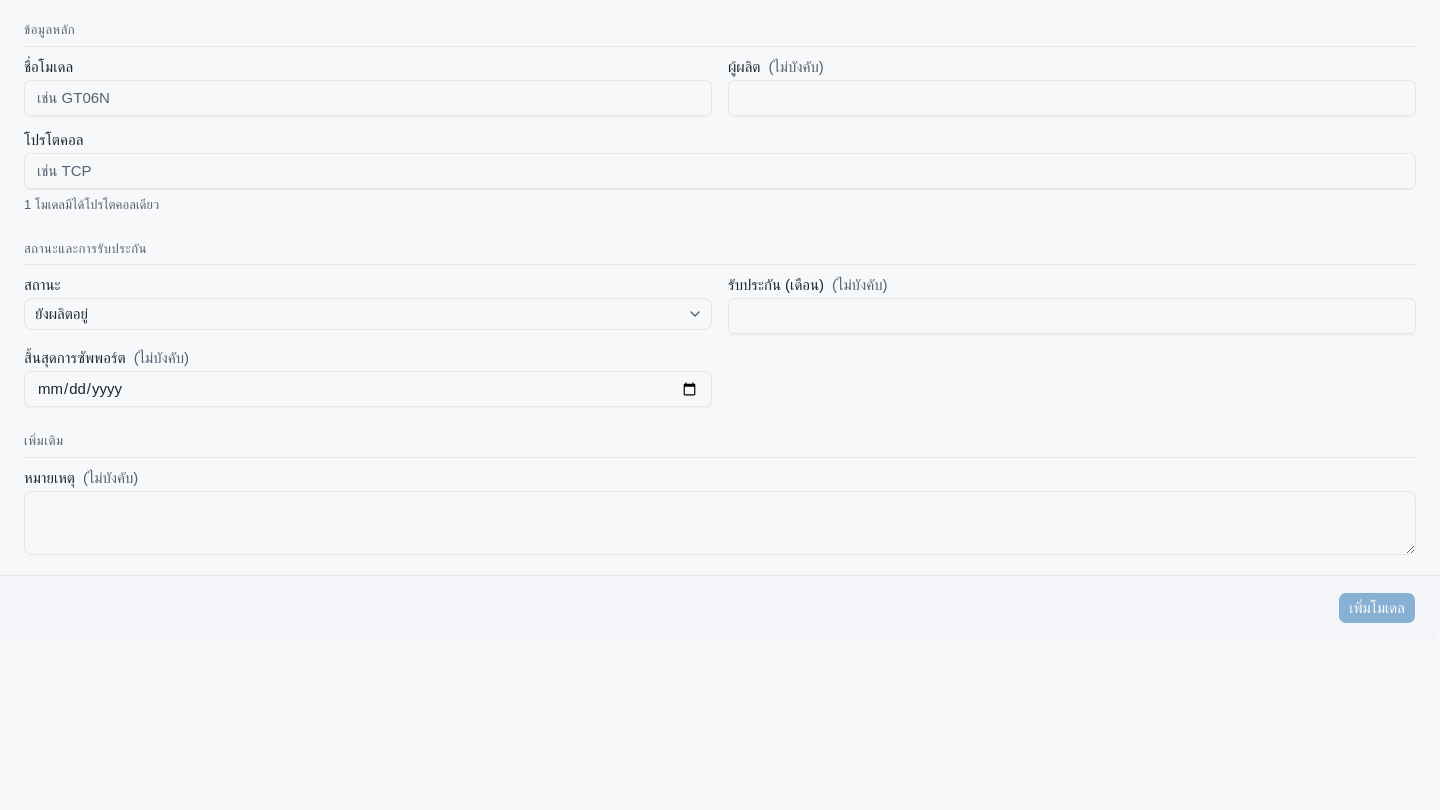
CreateDeviceModelForm › ปุ่ม 'เพิ่มโมเดล' disabled จนกว่าจะกรอกชื่อและโปรโตคอล
This screenshot has width=1440, height=810.
Expected: the button "เพิ่มโมเดล" is disabled, x1=1338 y1=592 x2=1416 y2=624
Type "GT06N" into the field labelled "ชื่อโมเดล" at (368, 98), box x1=24 y1=80 x2=712 y2=116
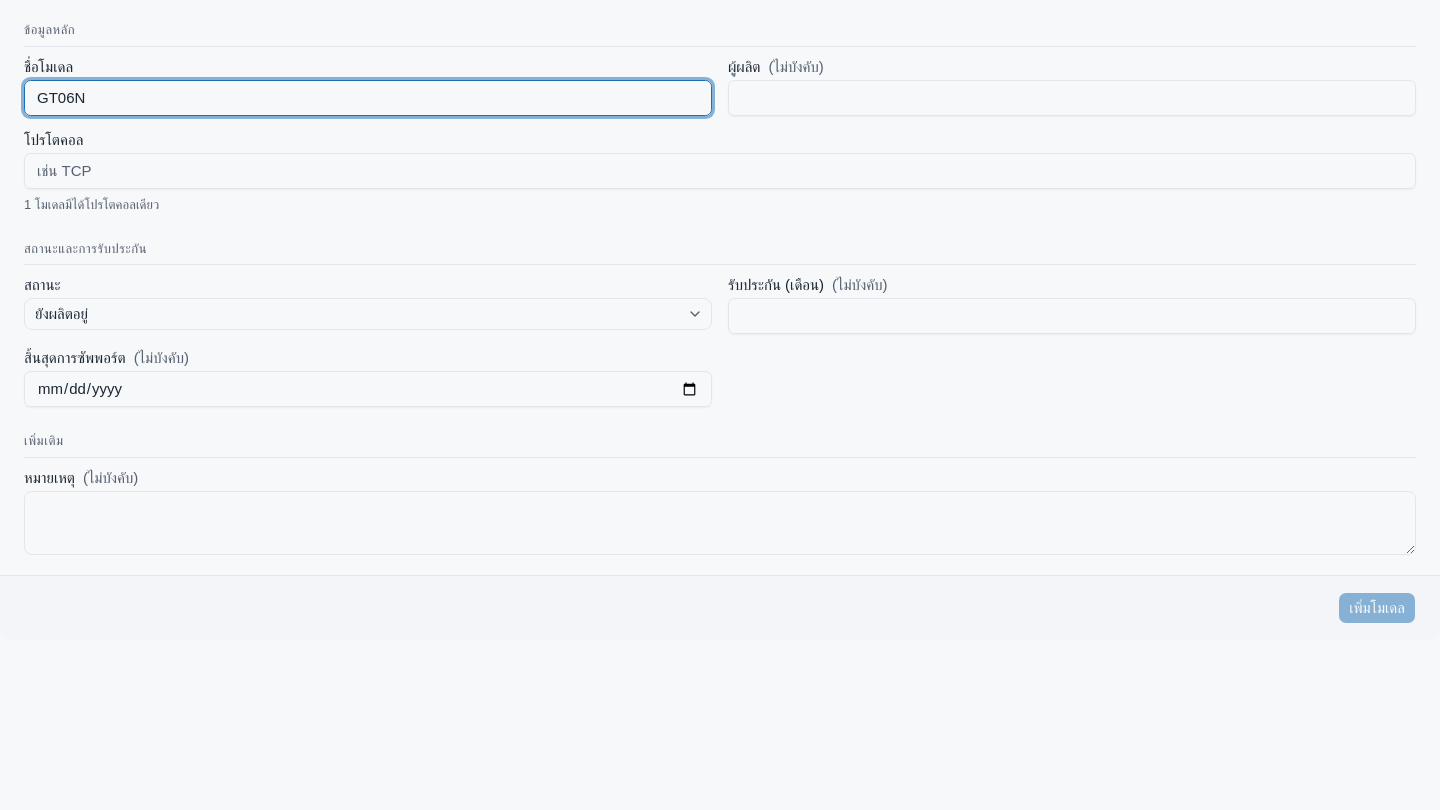
Expected: the button "เพิ่มโมเดล" is disabled, x1=1338 y1=592 x2=1416 y2=624
Type "TCP" into the field labelled "โปรโตคอล" at (720, 170), box x1=24 y1=152 x2=1416 y2=188
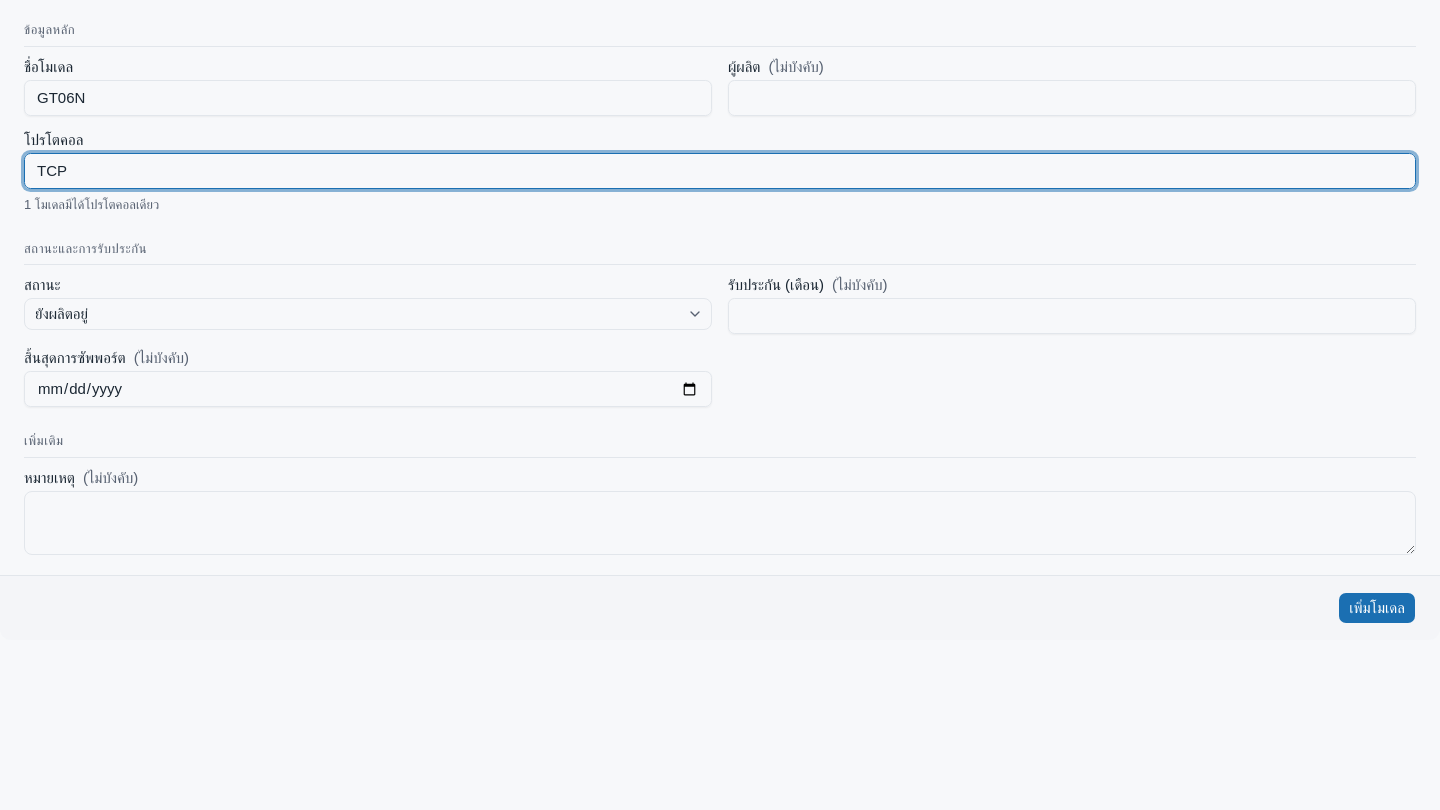
Now the button "เพิ่มโมเดล" is enabled, box x1=1338 y1=592 x2=1416 y2=624
